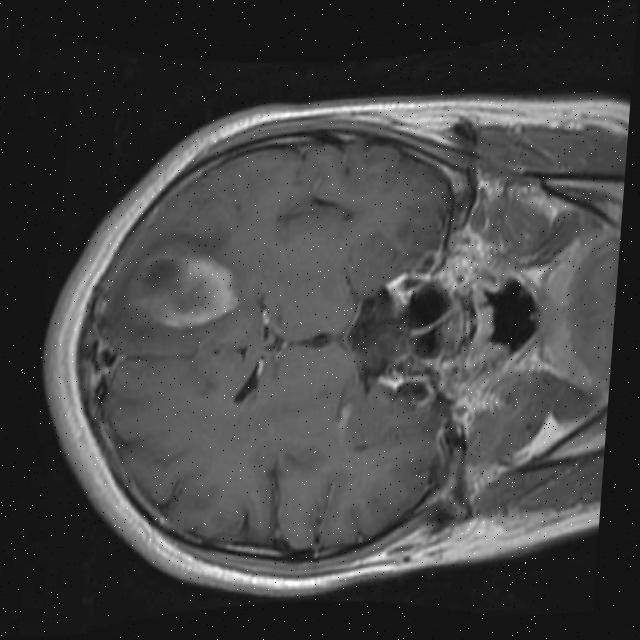Glioma: (120, 238, 245, 332)
